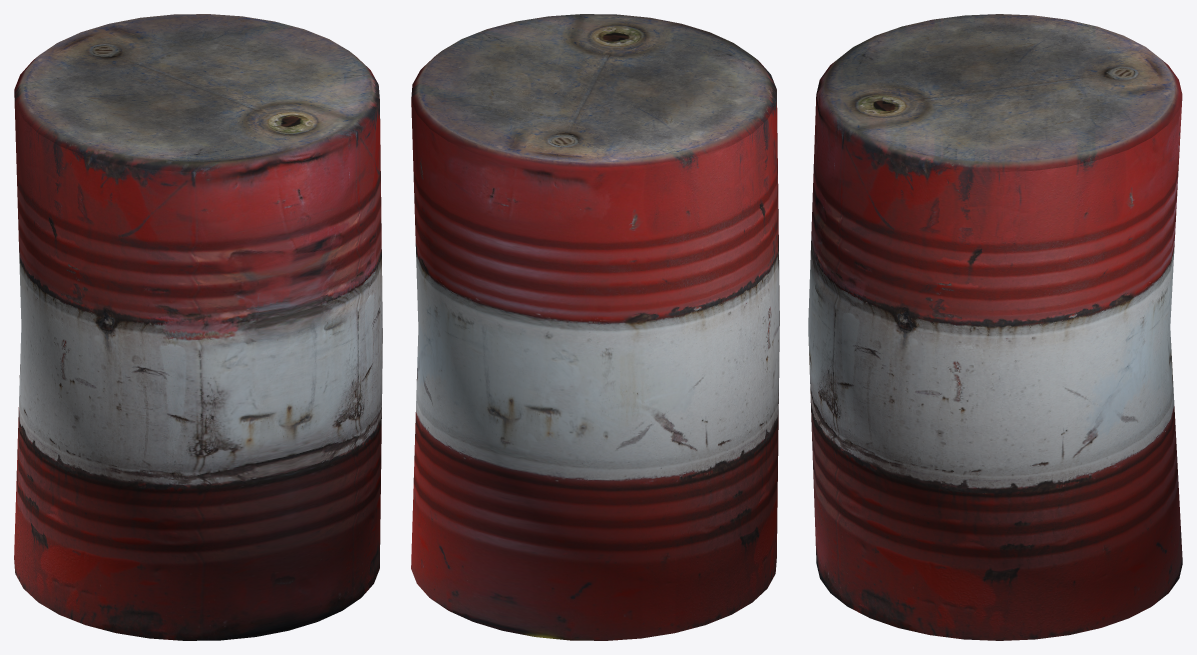
File: Barrel.fbx
The picture shows the model from 3 angles, left to right: view 1: azimuth 30°, elevation 25°; view 2: azimuth 150°, elevation 25°; view 3: azimuth 270°, elevation 25°; orthographic projection.
Visible parts, largest first — view 1: Barrel_Hazmat; view 2: Barrel_Hazmat; view 3: Barrel_Hazmat.
Part boxes in pixels (x1,y1,x2,y2): Barrel_Hazmat: (14,14,382,640); Barrel_Hazmat: (411,14,779,640); Barrel_Hazmat: (808,14,1182,640).
Bounding box in the file's own units: 57.66 × 82.52 × 58.96.
Materials: 1 (1 with a texture image).
